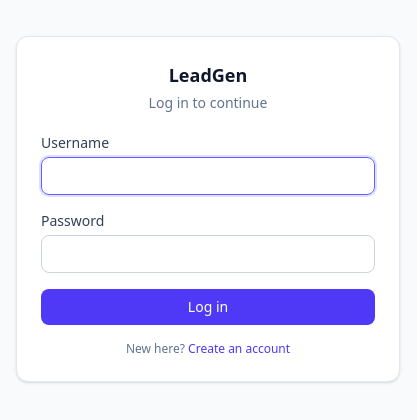
Test: Login form validation › rejects a username that is too short or has invalid characters
Type "ab" into the field labelled "Username".
click(208, 176); type("ab")  # box [41,157,375,195]
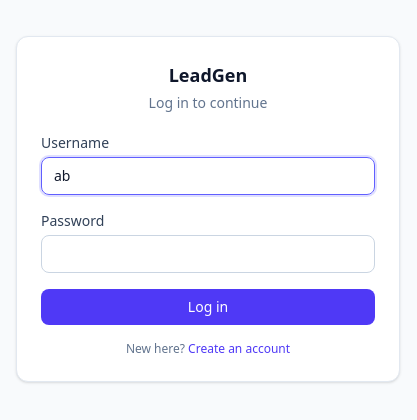
Click the button "Log in".
click(208, 307)  # box [41,289,375,325]
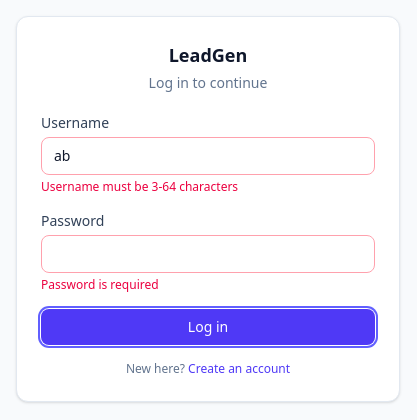
Check: the text "Username must be 3-64 characters" is shown, box [41,178,238,195]
Replace the text in the field labelled "Username" with "al!ce" at (208, 156), box [41,137,375,175]
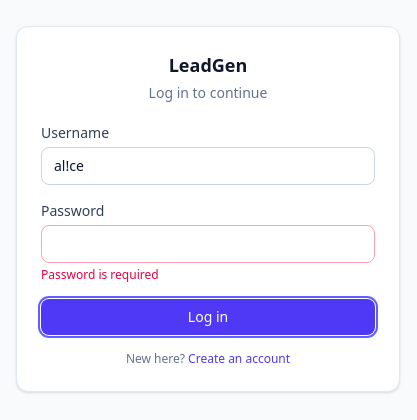
Click the button "Log in".
click(208, 317)  # box [41,299,375,335]
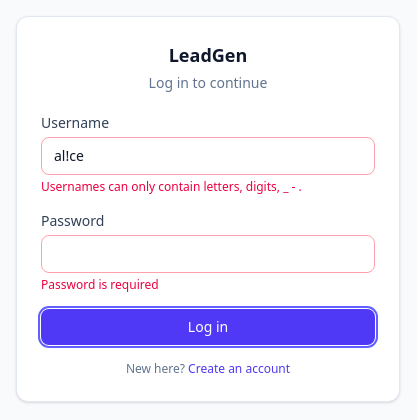
Check: the text "Usernames can only contain letters, digits, _ - ." is shown, box [41,178,302,195]
